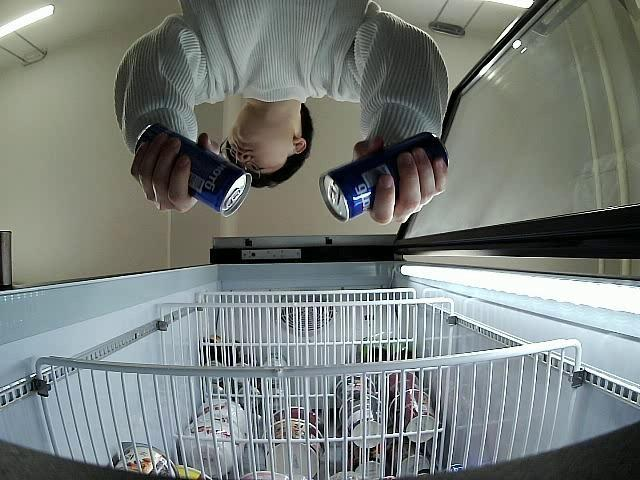16_hot6: (318, 131, 448, 222), (135, 124, 252, 218)
